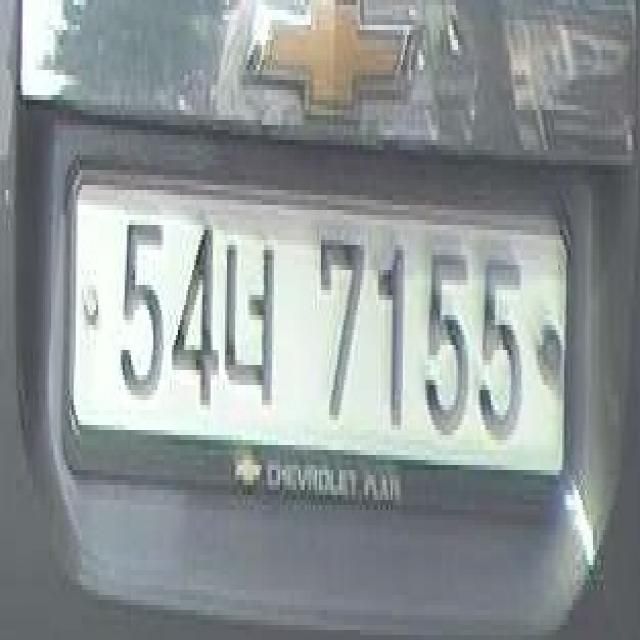1: (376, 220, 415, 440)
4: (174, 210, 227, 420)
5: (114, 190, 174, 400), (476, 250, 536, 460), (419, 240, 479, 440)
7: (309, 220, 372, 430)
license_plate: (55, 145, 575, 525)
neo: (221, 225, 284, 410)
